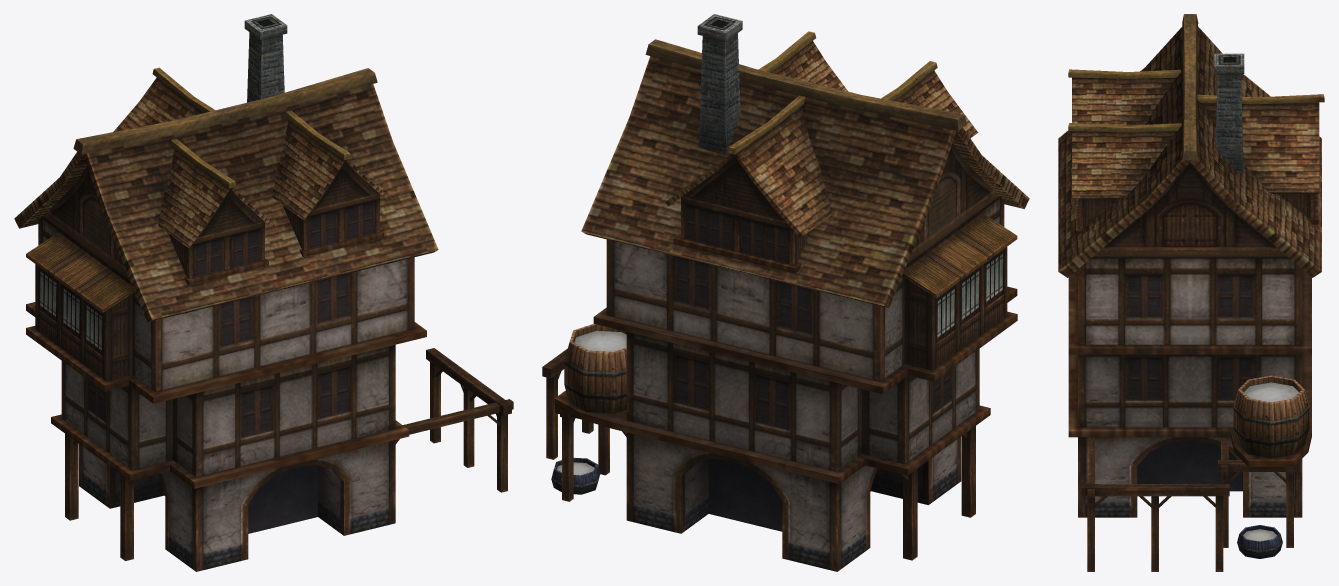
File: MEB_building_07.fbx
3 renders of one model, left to right at view 1: azimuth 30°, elevation 25°; view 2: azimuth 150°, elevation 25°; view 3: azimuth 270°, elevation 25°, orthographic. The views are drawn at different scales.
Parts seen in each view (by area): view 1: MEB_building_07; view 2: MEB_building_07; view 3: MEB_building_07.
Part boxes in pixels (x1,y1,x2,y2): MEB_building_07: [14, 14, 513, 571]; MEB_building_07: [542, 14, 1029, 571]; MEB_building_07: [1058, 14, 1324, 571].
Bounding box in the file's own units: 1552 × 1705 × 948.
